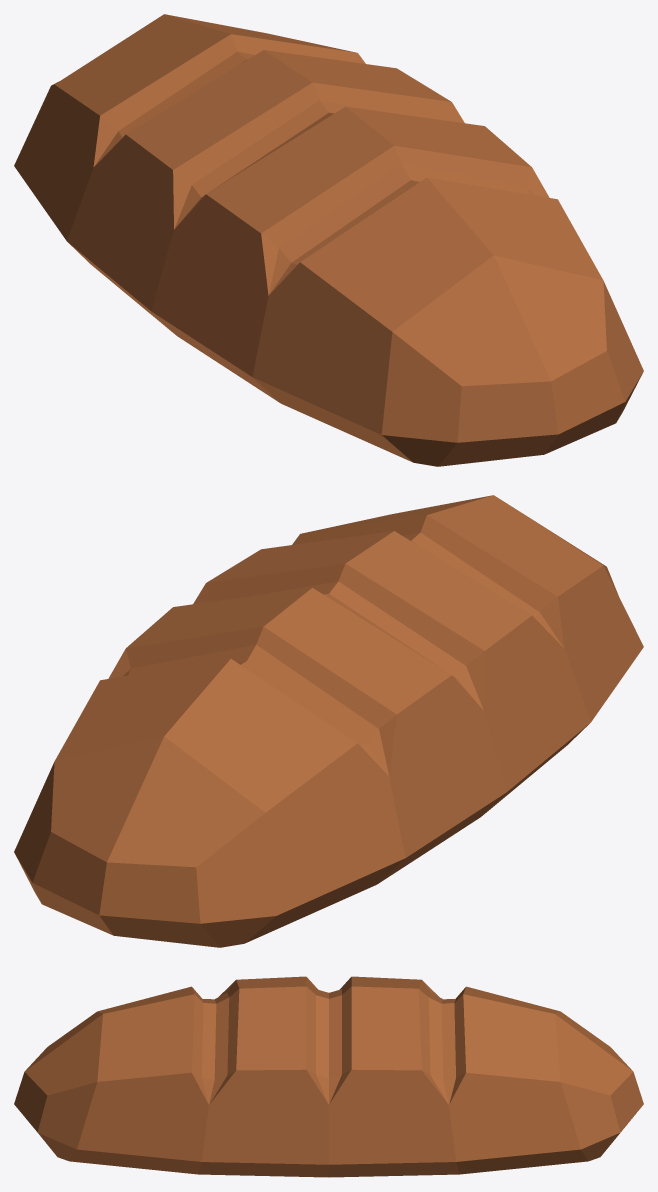
File: Bread.fbx
The picture shows the model from 3 angles, top to bottom: view 1: azimuth 30°, elevation 25°; view 2: azimuth 150°, elevation 25°; view 3: azimuth 270°, elevation 25°; orthographic projection. The views are drawn at different scales.
Visible parts, largest first — view 1: Bread; view 2: Bread; view 3: Bread.
Boxes of the visible parts, x1,y1,x2,y2 form: Bread: [14, 14, 643, 466]; Bread: [14, 495, 643, 947]; Bread: [14, 976, 643, 1177].
Bounding box in the file's own units: 1.8 × 0.9927 × 4.02.
